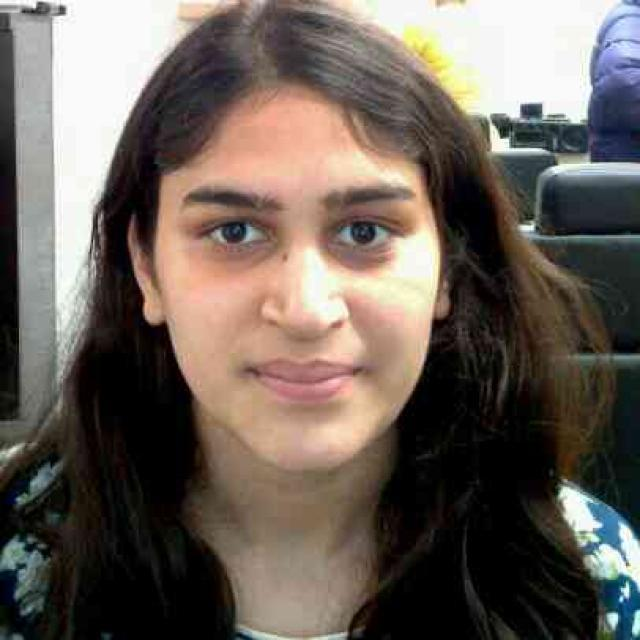puffy_eyes: (323, 238, 400, 275), (198, 244, 284, 273)
